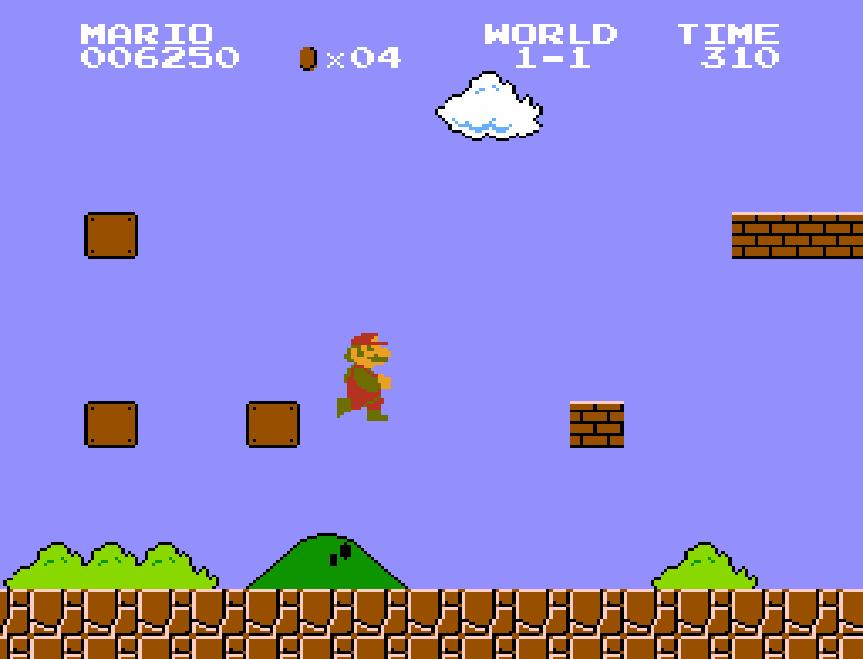big_mario: (335, 325, 393, 423)
